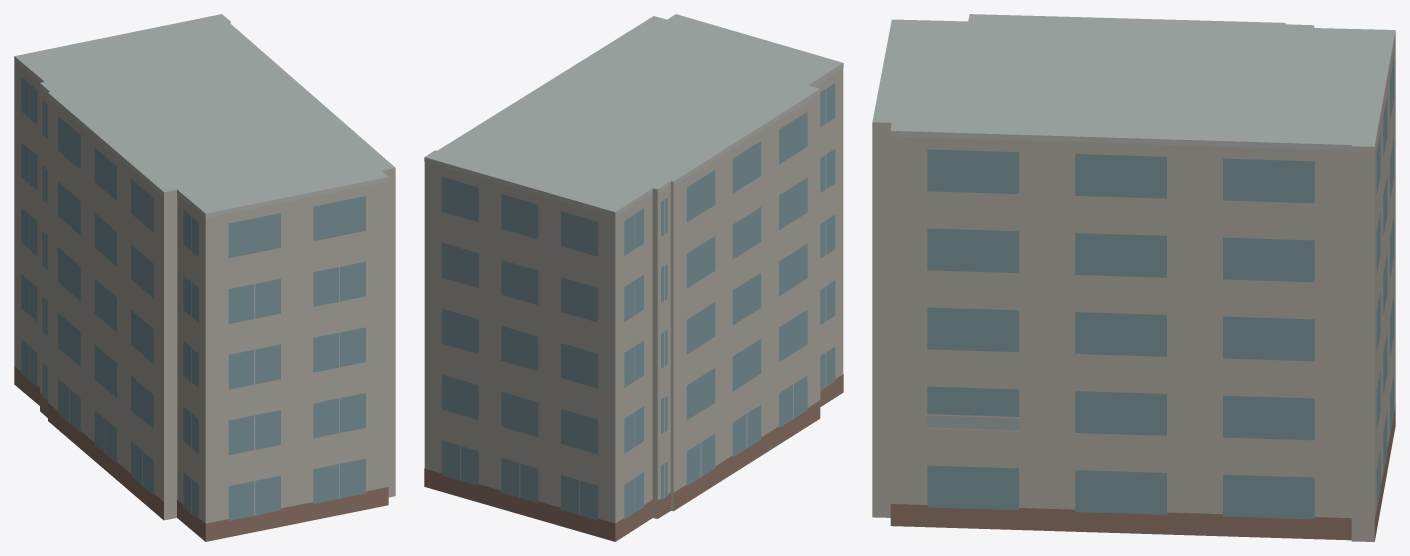
File: survey-upis-32940873.glb
3 renders of one model, left to right at view 1: azimuth 30°, elevation 25°; view 2: azimuth 150°, elevation 25°; view 3: azimuth 270°, elevation 25°, orthographic. The views are drawn at different scales.
Visible parts, largest first — view 1: survey-upis-32940873.tmp; view 2: survey-upis-32940873.tmp; view 3: survey-upis-32940873.tmp.
Part boxes in pixels (<box>): survey-upis-32940873.tmp: <box>14,14,395,541</box>; survey-upis-32940873.tmp: <box>424,14,843,541</box>; survey-upis-32940873.tmp: <box>872,14,1395,541</box>.
Bounding box in the file's own units: 12.39 × 17.2 × 20.65.
